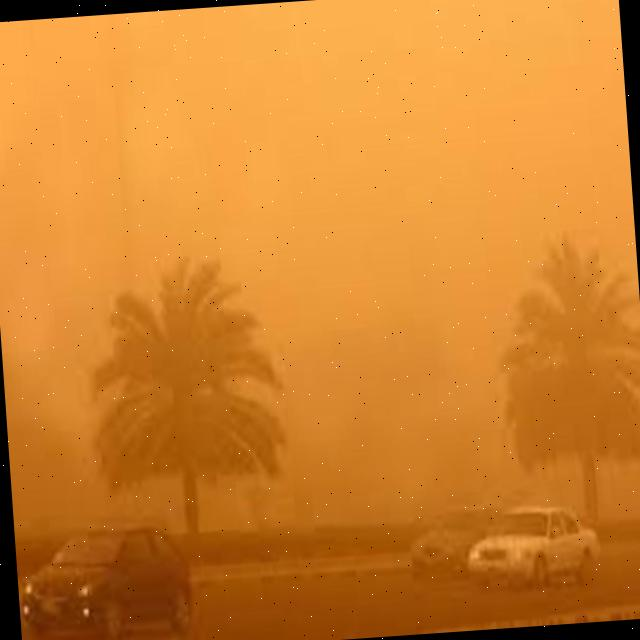car: (27, 520, 190, 640), (464, 500, 600, 590), (406, 508, 507, 588)
